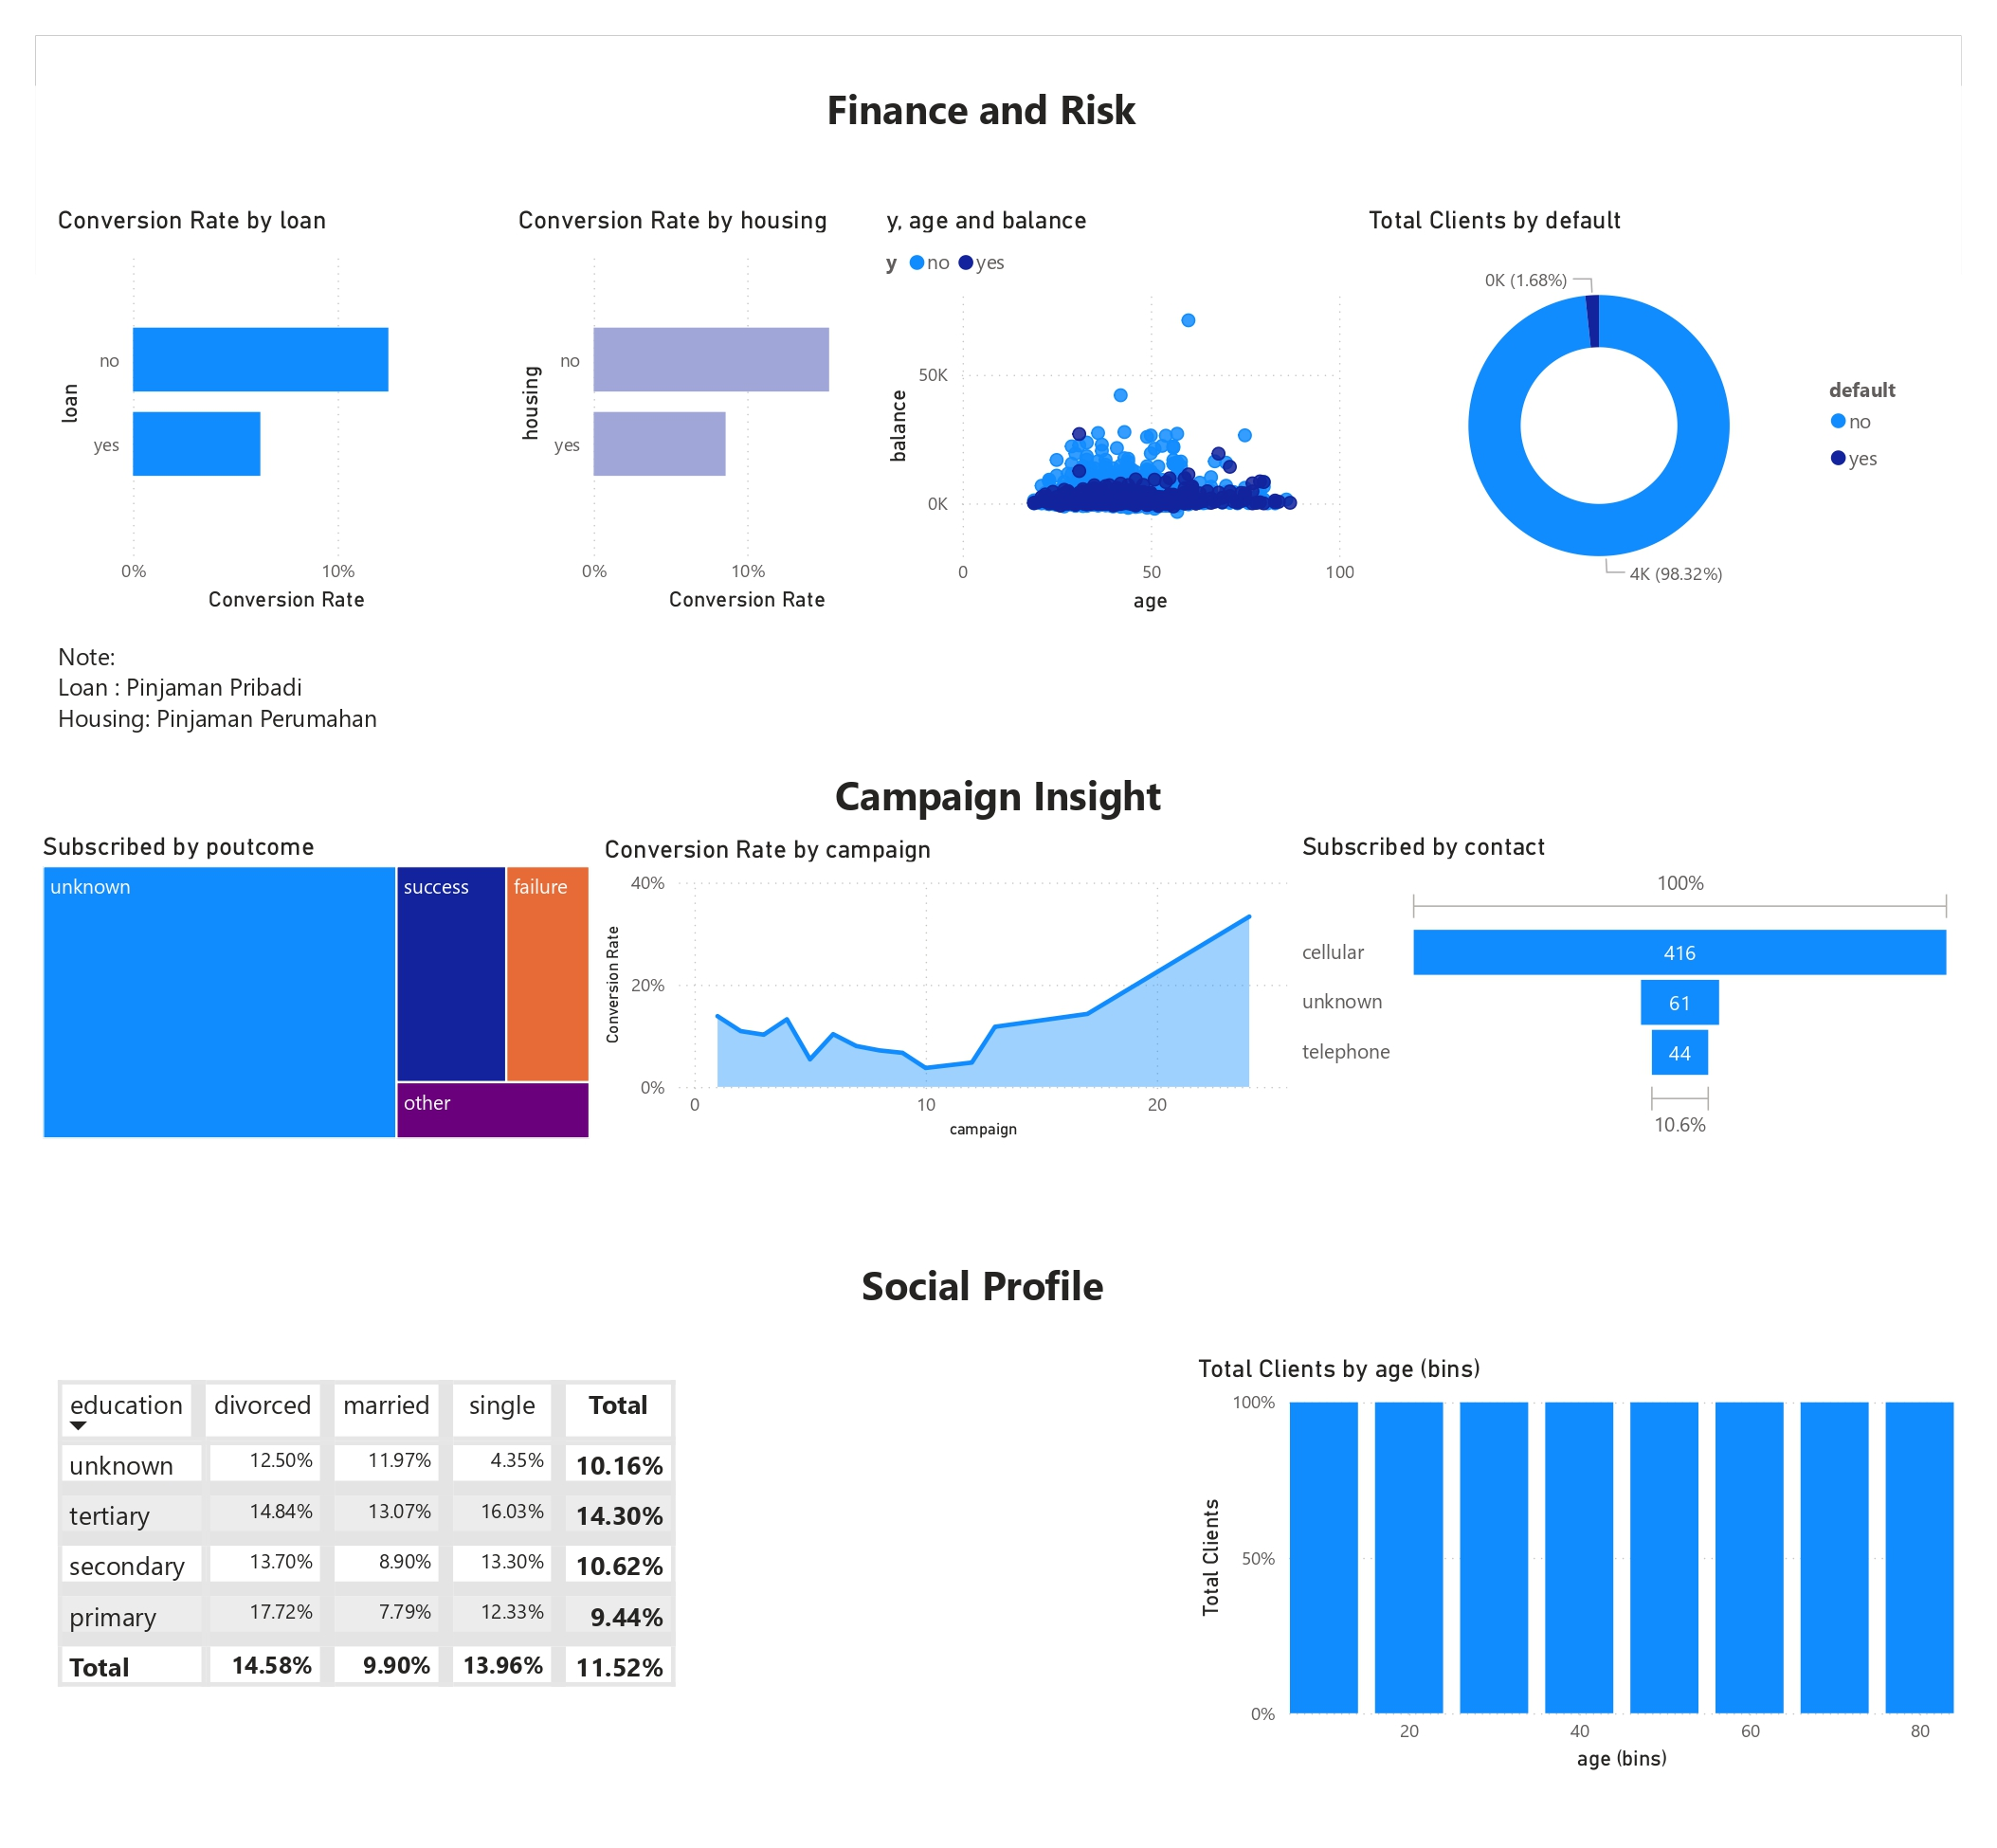

Layout of this report page (visuals, bound fields, positions):
{"tool":"powerbi","page":{"name":"Page 2","canvas":[1300,1200],"ordinal":1},"visuals":[{"type":"barChart","fields":{"Y":["bank.Conversion Rate"],"Category":["bank.loan"]},"box":[9.6,113.9,279.9,279.9],"z":0},{"type":"barChart","fields":{"Category":["bank.housing"],"Y":["bank.Conversion Rate"]},"box":[321.1,113.9,279.9,279.9],"z":1000},{"type":"textbox","box":[9.6,403.4,251.1,85.1],"z":2000},{"type":"scatterChart","fields":{"Y":["bank.balance"],"X":["bank.age"],"Series":["bank.y"]},"box":[569.5,113.9,325.2,279.9],"z":3000},{"type":"donutChart","fields":{"Category":["bank.default"],"Y":["bank.Total Clients"]},"box":[894.7,113.9,385.6,279.9],"z":4000},{"type":"textbox","box":[461.1,26.1,355.4,53.5],"z":5000},{"type":"treemap","fields":{"Group":["bank.poutcome"],"Values":["bank.Subscribed"]},"box":[0,537.1,378.6,212.9],"z":5001},{"type":"textbox","box":[494.3,488.6,311.4,48.6],"z":5002},{"type":"areaChart","fields":{"Category":["bank.campaign"],"Y":["bank.Conversion Rate"]},"box":[378.6,538.6,471.4,211.4],"z":5003},{"type":"funnel","fields":{"Category":["bank.contact"],"Y":["bank.Subscribed"]},"box":[850,537.1,450,212.9],"z":5004},{"type":"textbox","box":[450,820,378.6,54.3],"z":5005},{"type":"pivotTable","fields":{"Rows":["bank.education"],"Columns":["bank.marital"],"Values":["bank.Conversion Rate"]},"box":[10,902.9,450,221.4],"z":5006},{"type":"hundredPercentStackedColumnChart","fields":{"Category":["bank.age (bins)"],"Y":["bank.Total Clients"]},"box":[780,890,520,287.1],"z":5007}]}

Visuals, with their boxes in screenshot pixels (x1, y1, x2, y2), scaled from the page's 1300x1200 canvas onto the 1997x1848 screenshot:
barChart - bank.Conversion Rate x bank.loan: {"left": 15, "top": 175, "right": 445, "bottom": 607}
barChart - bank.housing x bank.Conversion Rate: {"left": 493, "top": 175, "right": 923, "bottom": 607}
textbox: {"left": 15, "top": 622, "right": 401, "bottom": 752}
scatterChart - bank.balance x bank.age: {"left": 875, "top": 175, "right": 1374, "bottom": 607}
donutChart - bank.default x bank.Total Clients: {"left": 1374, "top": 175, "right": 1967, "bottom": 607}
textbox: {"left": 708, "top": 40, "right": 1254, "bottom": 122}
treemap - bank.poutcome x bank.Subscribed: {"left": 0, "top": 827, "right": 582, "bottom": 1155}
textbox: {"left": 759, "top": 752, "right": 1238, "bottom": 827}
areaChart - bank.campaign x bank.Conversion Rate: {"left": 582, "top": 829, "right": 1306, "bottom": 1155}
funnel - bank.contact x bank.Subscribed: {"left": 1306, "top": 827, "right": 1996, "bottom": 1155}
textbox: {"left": 691, "top": 1262, "right": 1273, "bottom": 1347}
pivotTable - bank.education x bank.marital: {"left": 15, "top": 1390, "right": 707, "bottom": 1731}
hundredPercentStackedColumnChart - bank.age (bins) x bank.Total Clients: {"left": 1198, "top": 1370, "right": 1996, "bottom": 1813}
